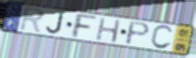C: (149, 24, 174, 51)
F: (71, 12, 99, 40)
H: (95, 16, 123, 44)
J: (45, 12, 65, 35)
P: (123, 21, 152, 46)
R: (17, 6, 46, 35)
